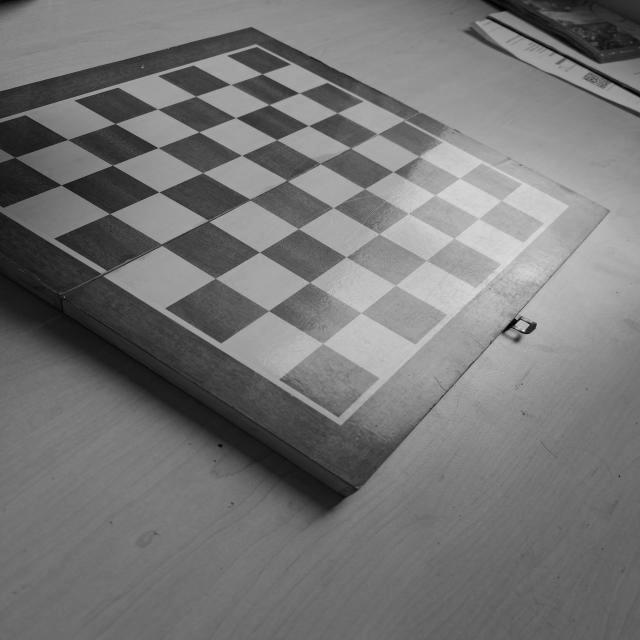chess-table-corners: (322, 402, 356, 428), (546, 195, 576, 218), (242, 38, 270, 56)
